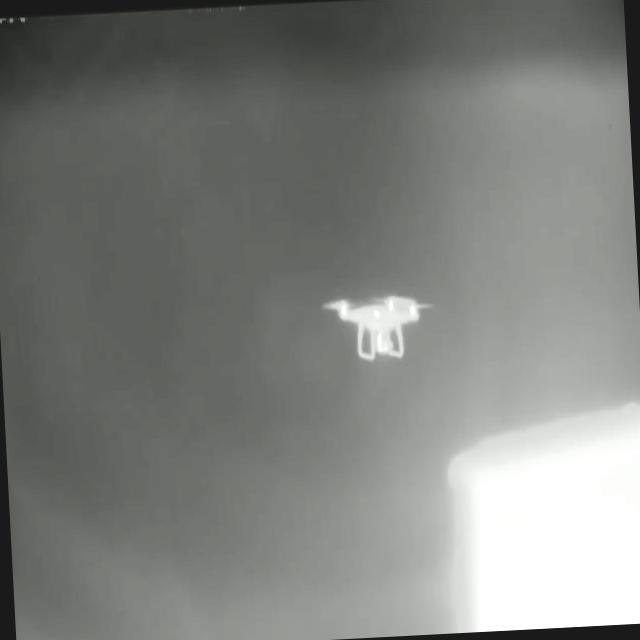DRONE: (319, 289, 436, 362)
